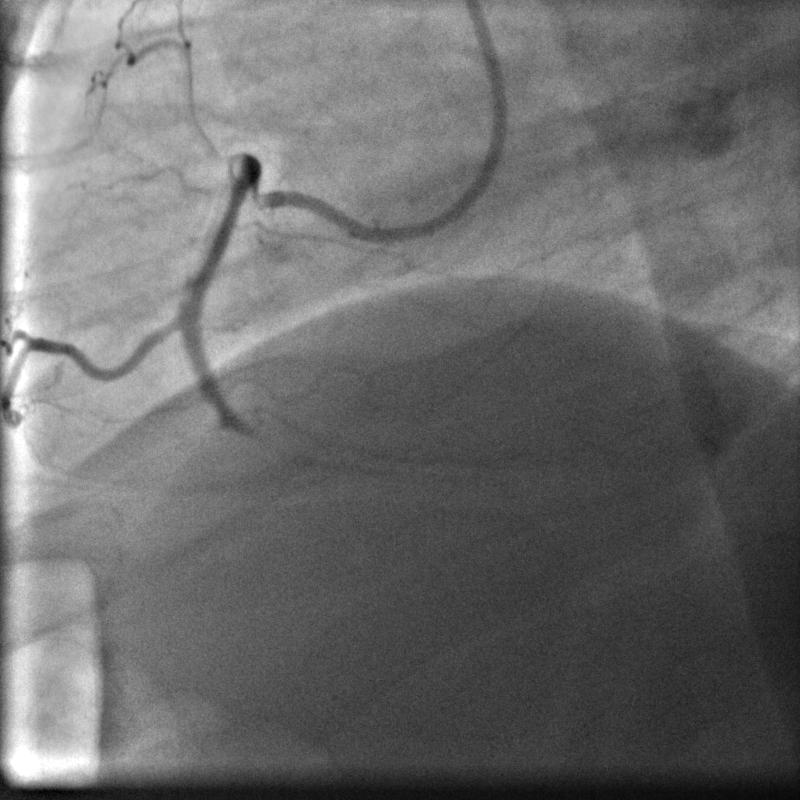Stenosis: (232, 409, 289, 445)
